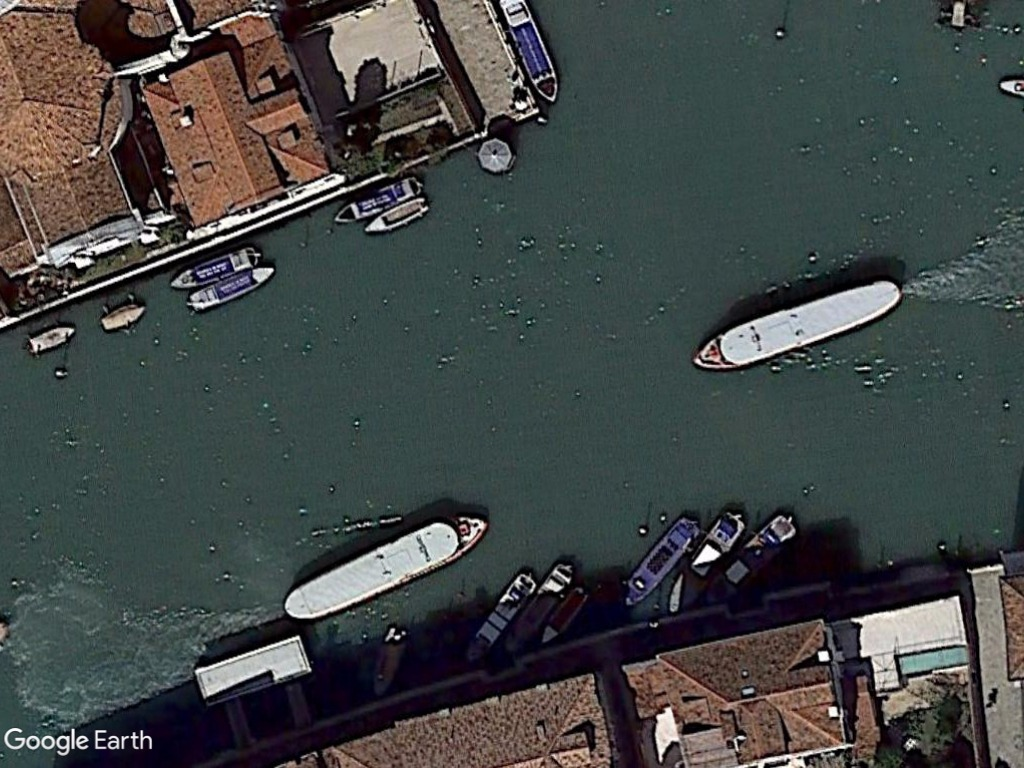boat: (277, 511, 495, 625), (684, 272, 904, 375), (708, 512, 802, 602), (496, 558, 581, 657), (618, 514, 703, 612), (460, 564, 538, 663), (183, 263, 282, 316), (168, 245, 263, 296), (334, 175, 416, 228), (539, 585, 598, 649), (363, 195, 433, 237)
